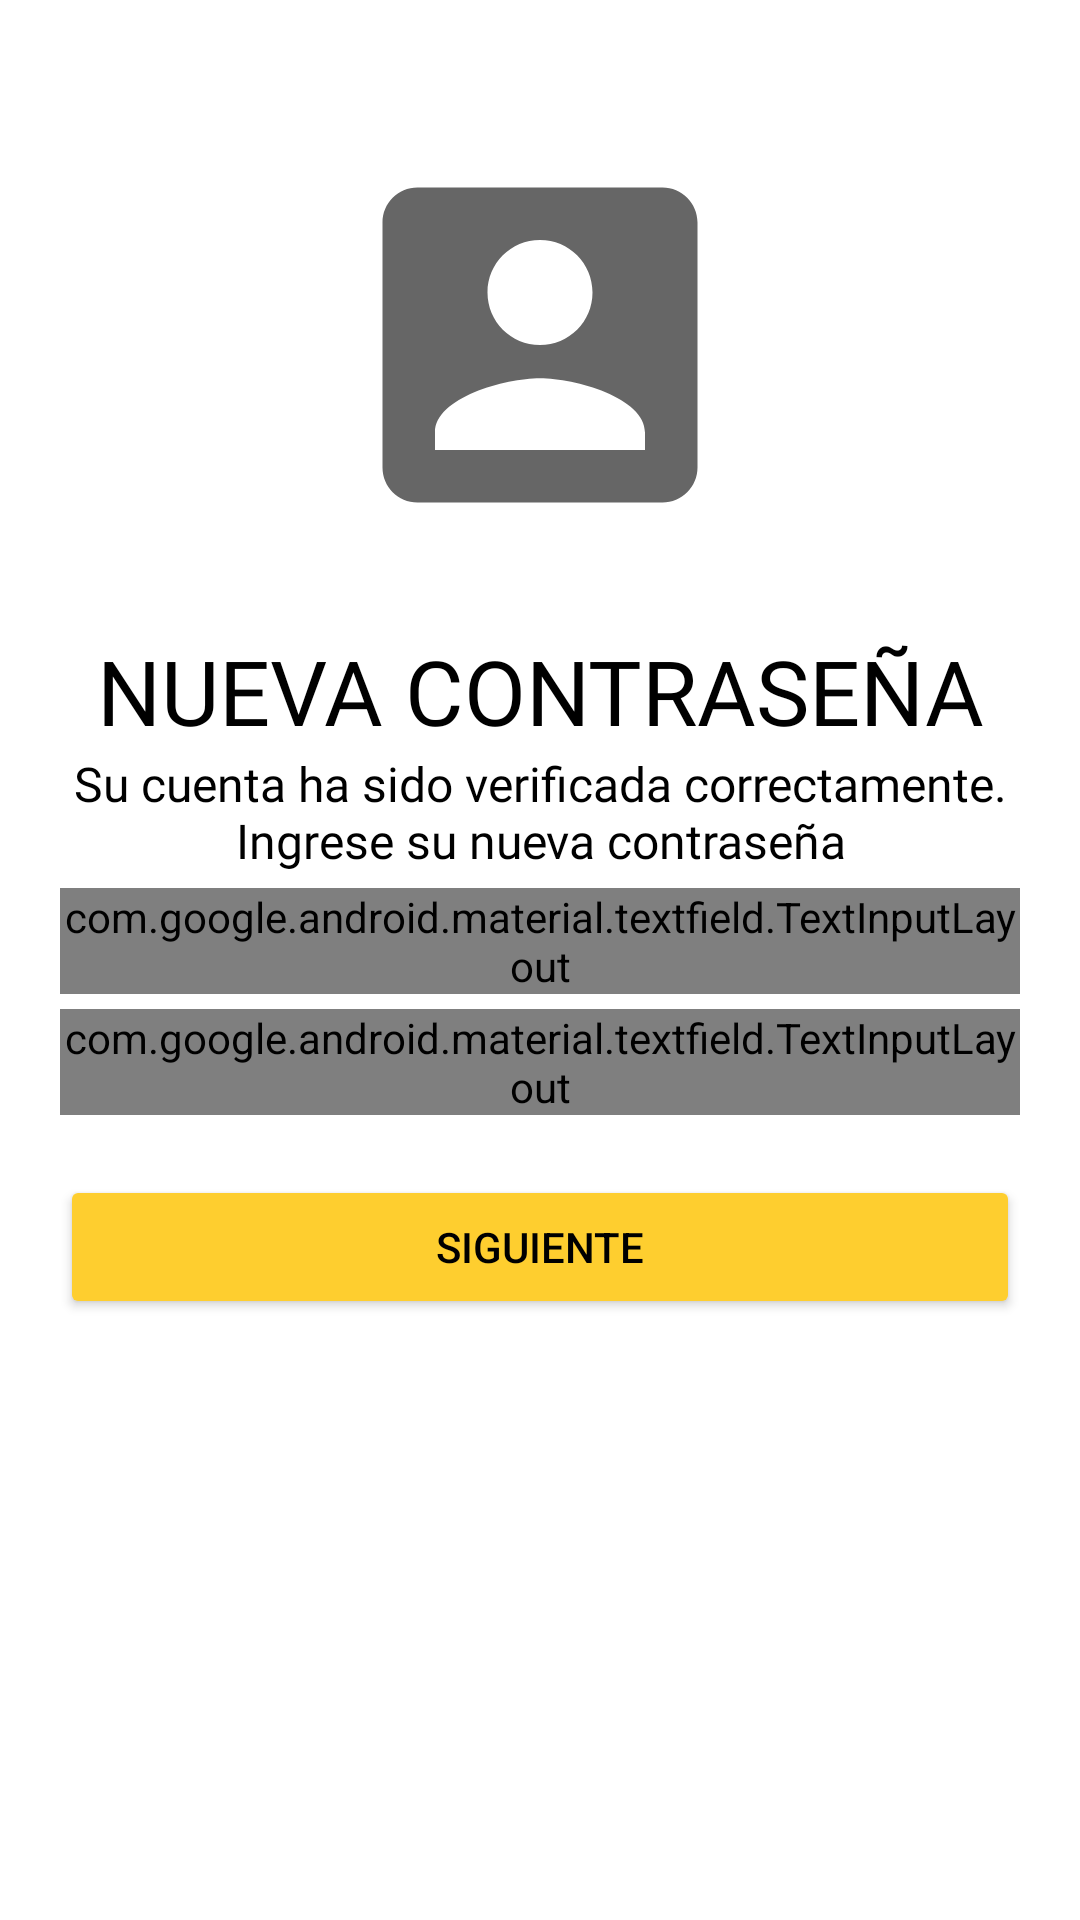

Screen size 1080px x 1920px. Icon name, then its box in pixels as {"left": x1, "top": y1, "right": x2, "bottom": y2}:
account box: {"left": 382, "top": 187, "right": 698, "bottom": 503}
